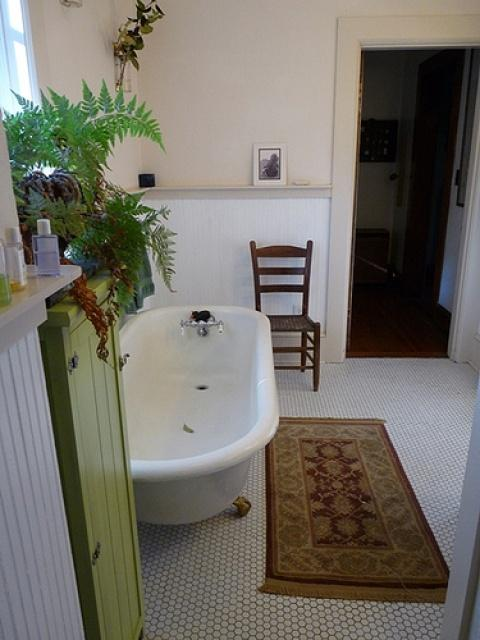Kursi: (248, 239, 321, 392)
